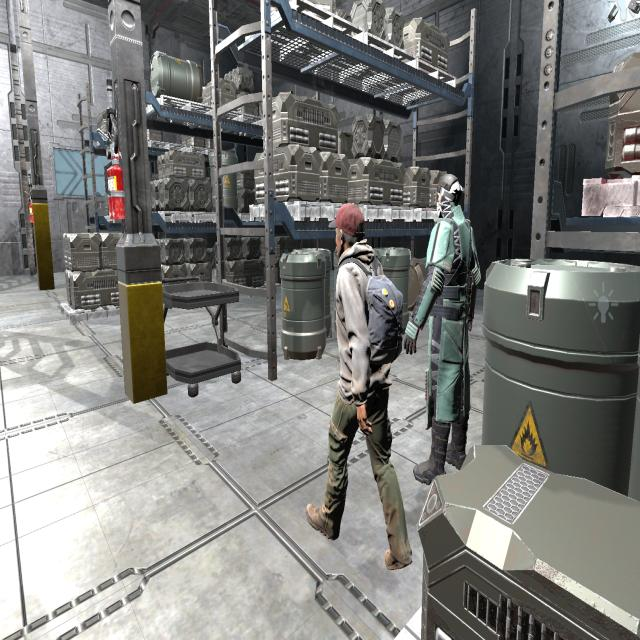thiefs: (294, 190, 419, 593)
